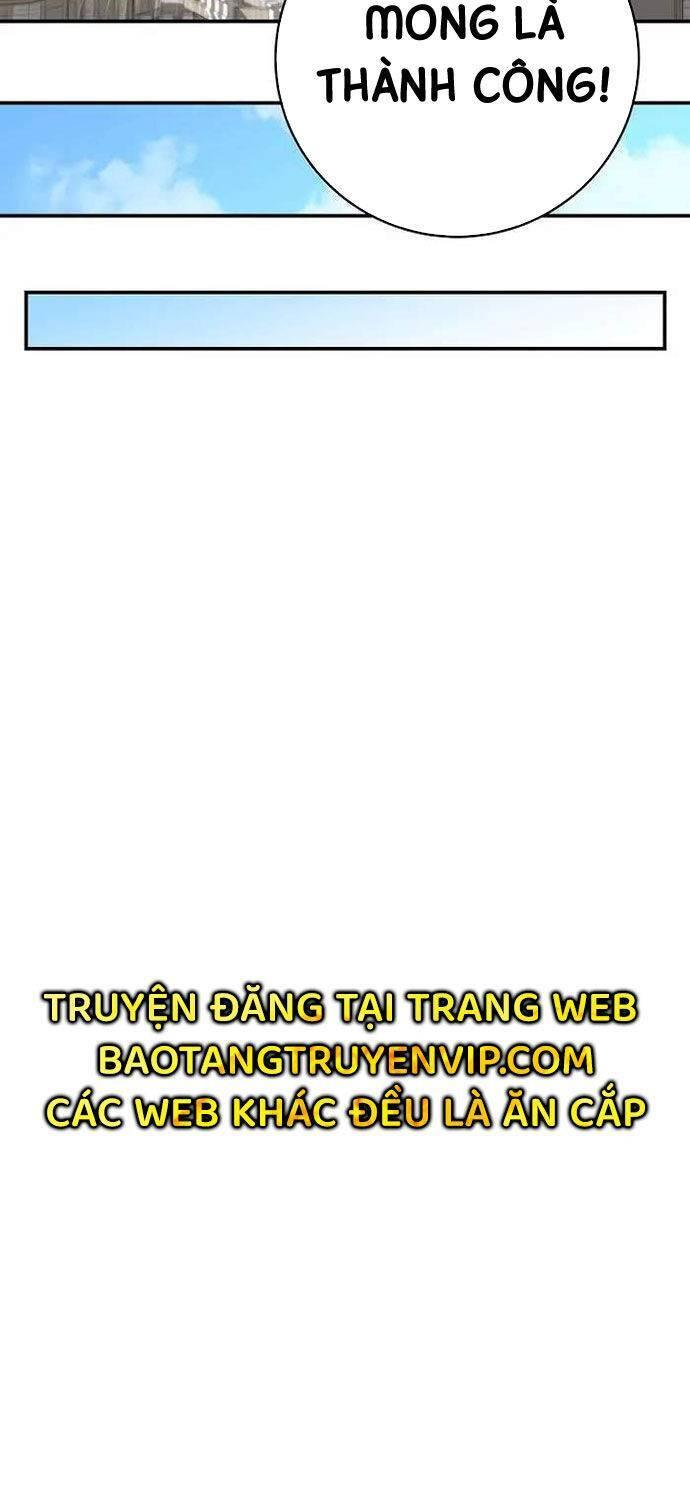quangcao: (42, 976, 650, 1140)
